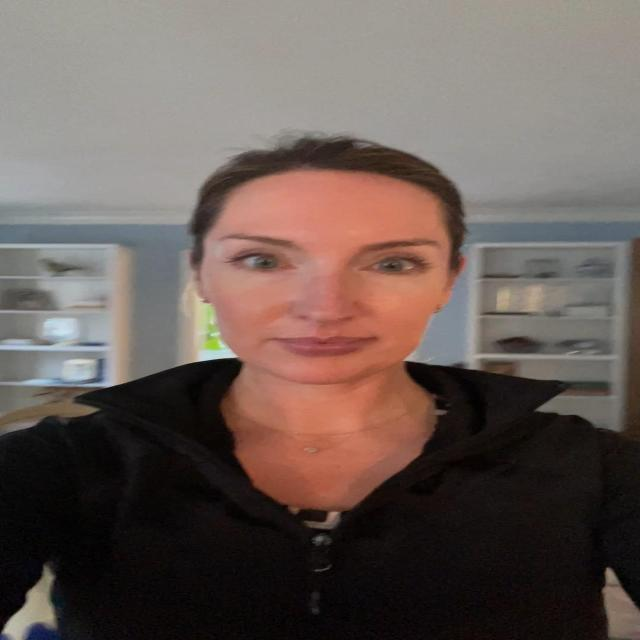no-helmet: (184, 149, 473, 405)
